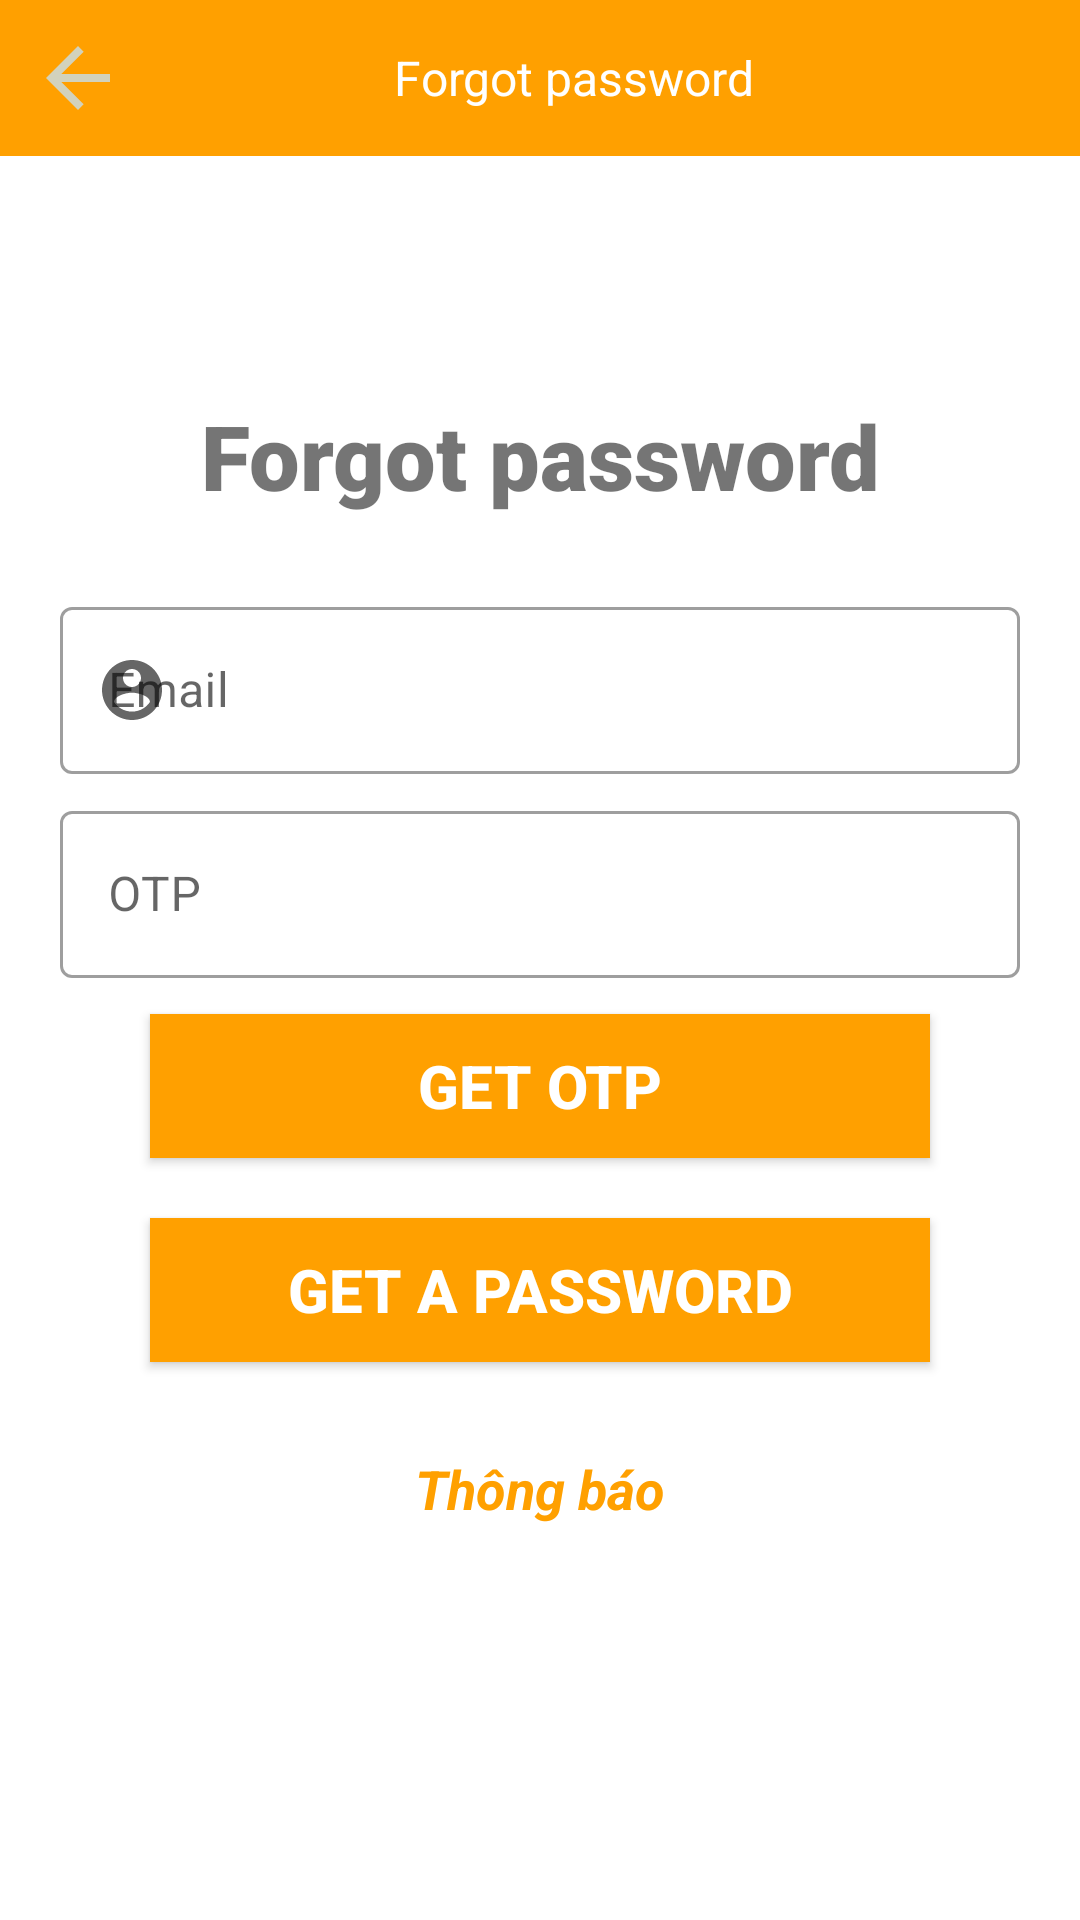

Locate icon controls on the screen. Image size 1080*1920, boxes as (x1, y1, x2, y2).
arrow back: (46, 46, 110, 110)
